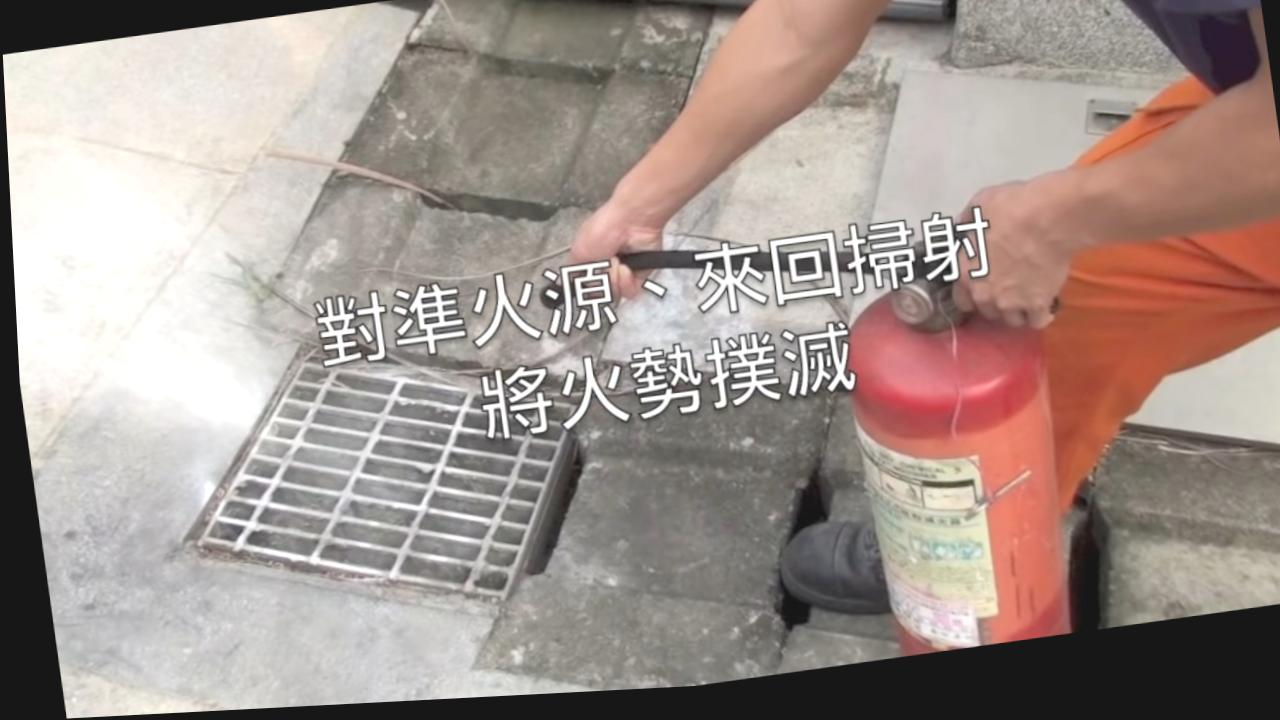FireExtinguisher: (797, 238, 1108, 673)
not: (968, 74, 1280, 517)
